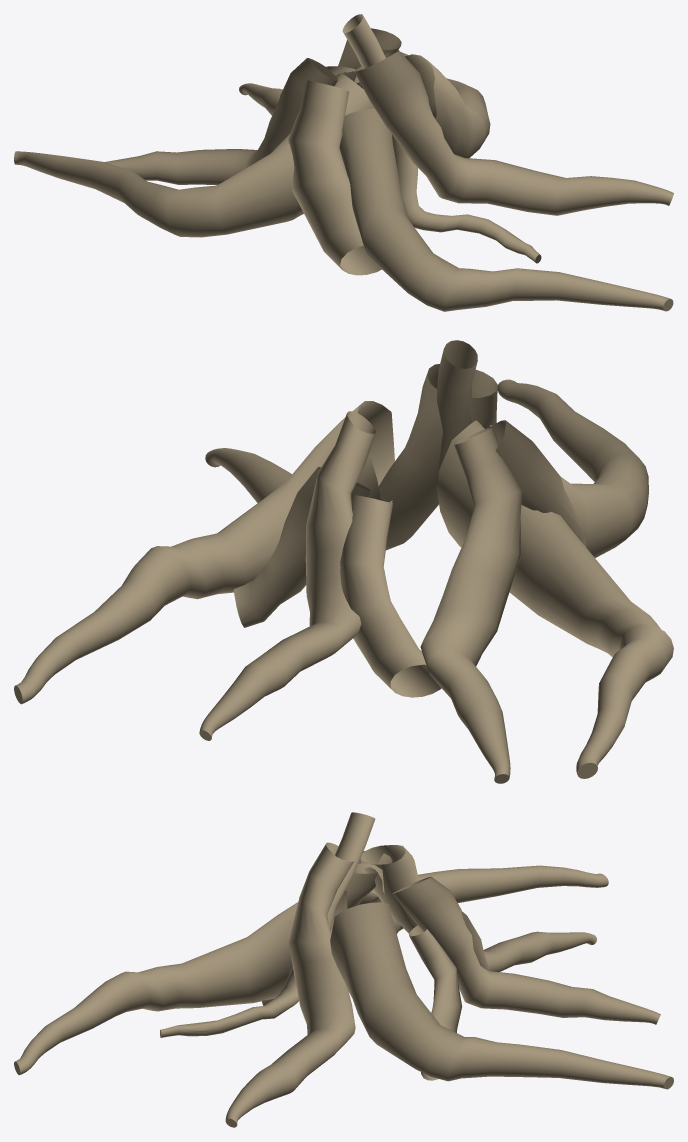
Rendered from Tree_Roots_01.fbx.
3 views of the same model, one above another, from view 1: azimuth 30°, elevation 25°; view 2: azimuth 150°, elevation 25°; view 3: azimuth 270°, elevation 25° (orthographic). The views are drawn at different scales.
Parts seen in each view (by area): view 1: treeRoot_03, treeRoot_05, treeRoot_09, treeRoot_07, treeRoot_010, treeRoot_04, treeRoot_02, treeRoot_01; view 2: treeRoot_09, treeRoot_02, treeRoot_010, treeRoot_01, treeRoot_03, treeRoot_05, treeRoot_08, treeRoot_06, treeRoot_07, treeRoot_04; view 3: treeRoot_02, treeRoot_03, treeRoot_05, treeRoot_01, treeRoot_010, treeRoot_09, treeRoot_04, treeRoot_06, treeRoot_07.
Boxes of the visible parts, bbox=[...] form: treeRoot_03: bbox=[339, 108, 673, 311]; treeRoot_05: bbox=[354, 50, 673, 215]; treeRoot_09: bbox=[14, 73, 374, 237]; treeRoot_07: bbox=[288, 80, 381, 275]; treeRoot_010: bbox=[104, 58, 337, 185]; treeRoot_04: bbox=[342, 14, 541, 263]; treeRoot_02: bbox=[401, 52, 490, 158]; treeRoot_01: bbox=[239, 28, 401, 115]; treeRoot_09: bbox=[437, 420, 673, 778]; treeRoot_02: bbox=[14, 401, 394, 704]; treeRoot_010: bbox=[420, 427, 521, 783]; treeRoot_01: bbox=[199, 411, 375, 740]; treeRoot_03: bbox=[490, 379, 648, 557]; treeRoot_05: bbox=[205, 364, 497, 550]; treeRoot_08: bbox=[340, 494, 441, 697]; treeRoot_06: bbox=[233, 467, 370, 627]; treeRoot_07: bbox=[491, 420, 585, 546]; treeRoot_04: bbox=[436, 340, 477, 473]; treeRoot_02: bbox=[330, 902, 673, 1089]; treeRoot_03: bbox=[14, 890, 347, 1075]; treeRoot_05: bbox=[225, 842, 355, 1127]; treeRoot_01: bbox=[392, 876, 660, 1024]; treeRoot_010: bbox=[360, 845, 596, 971]; treeRoot_09: bbox=[330, 863, 608, 933]; treeRoot_04: bbox=[160, 812, 375, 1037]; treeRoot_06: bbox=[409, 925, 462, 1080]; treeRoot_07: bbox=[262, 851, 392, 1005].
Size of the model in its own units: 162 by 70.91 by 197.
